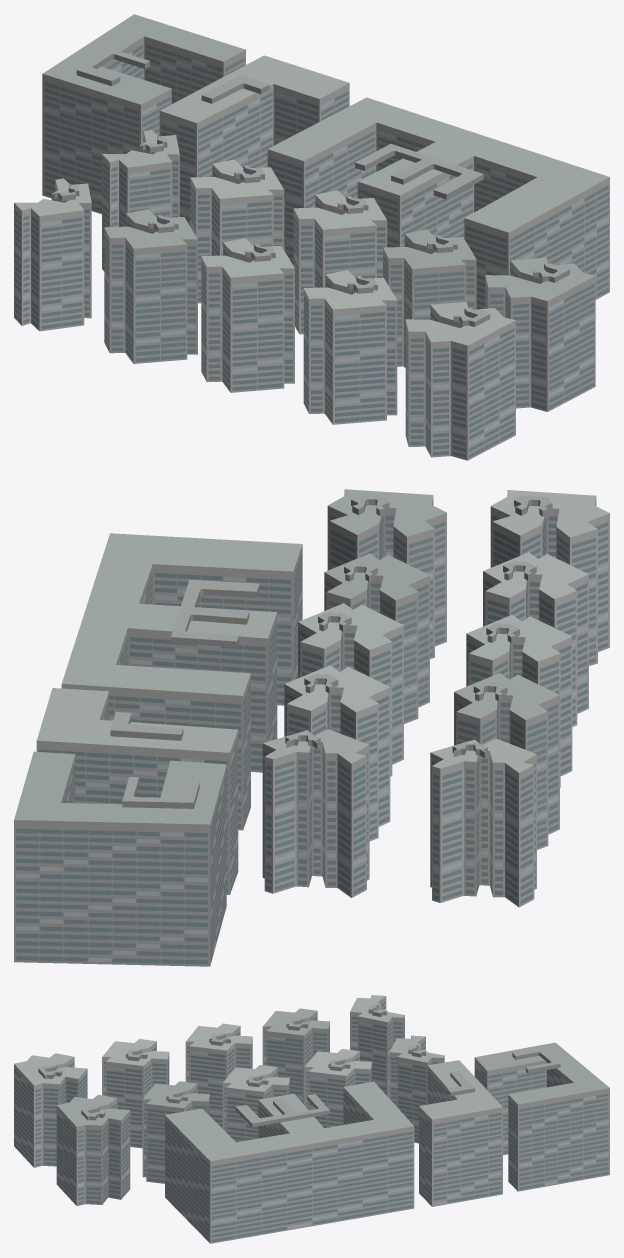
File: apt-a10027346.glb
3 views of the same model, one above another, from view 1: azimuth 30°, elevation 25°; view 2: azimuth 150°, elevation 25°; view 3: azimuth 270°, elevation 25° (orthographic). The views are drawn at different scales.
Parts seen in each view (by area): view 1: apt-a10027346; view 2: apt-a10027346; view 3: apt-a10027346.
Part boxes in pixels (x1=…): apt-a10027346: x1=14, y1=14, x2=609, y2=460; apt-a10027346: x1=14, y1=489, x2=609, y2=966; apt-a10027346: x1=14, y1=995, x2=609, y2=1243.
Size of the model in its own units: 227 by 58 by 344.
